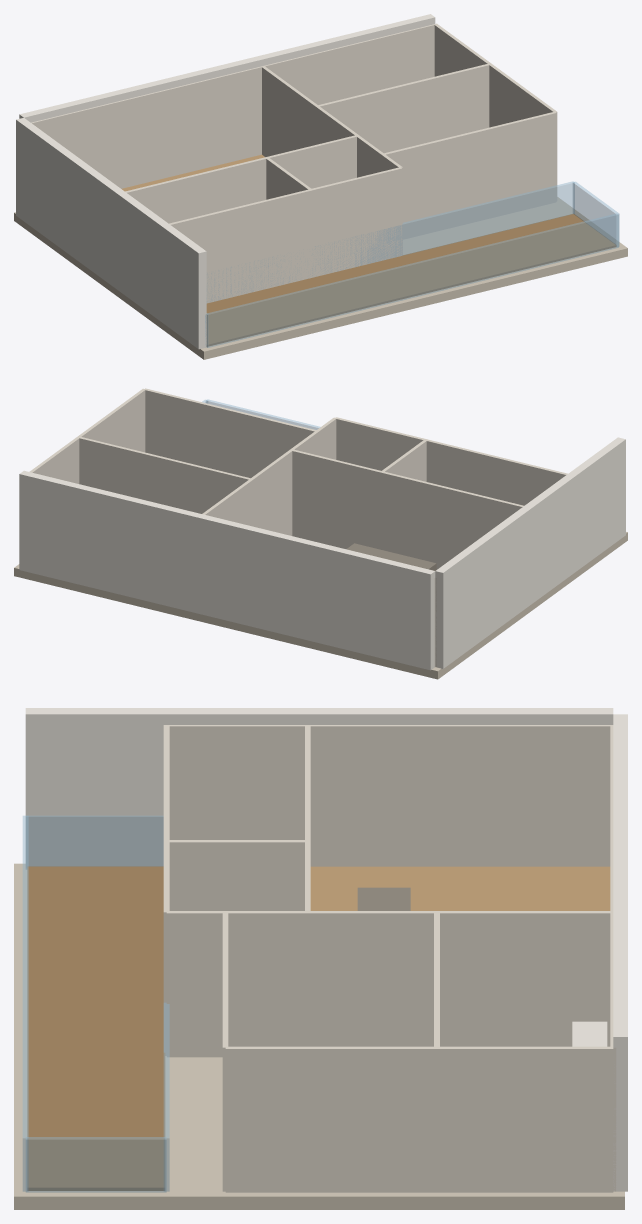
File: penthouse-1.glb
3 views of the same model, one above another, from view 1: azimuth 30°, elevation 25°; view 2: azimuth 150°, elevation 25°; view 3: azimuth 270°, elevation 25° (orthographic). The views are drawn at different scales.
Parts seen in each view (by area): view 1: level-main, floor-balcony, slab, floor-living; view 2: level-main, slab; view 3: level-main, floor-balcony, slab, floor-living.
Part boxes in pixels (<box>): level-main: <box>16,14,619,349</box>; floor-balcony: <box>206,214,616,346</box>; slab: <box>14,197,627,359</box>; floor-living: <box>122,154,264,191</box>; level-main: <box>19,388,625,670</box>; slab: <box>14,532,627,679</box>; level-main: <box>22,708,627,1192</box>; floor-balcony: <box>27,866,165,1190</box>; slab: <box>14,863,624,1209</box>; floor-living: <box>310,866,610,910</box>.
Size of the model in its own units: 13.45 by 3.15 by 10.45.
